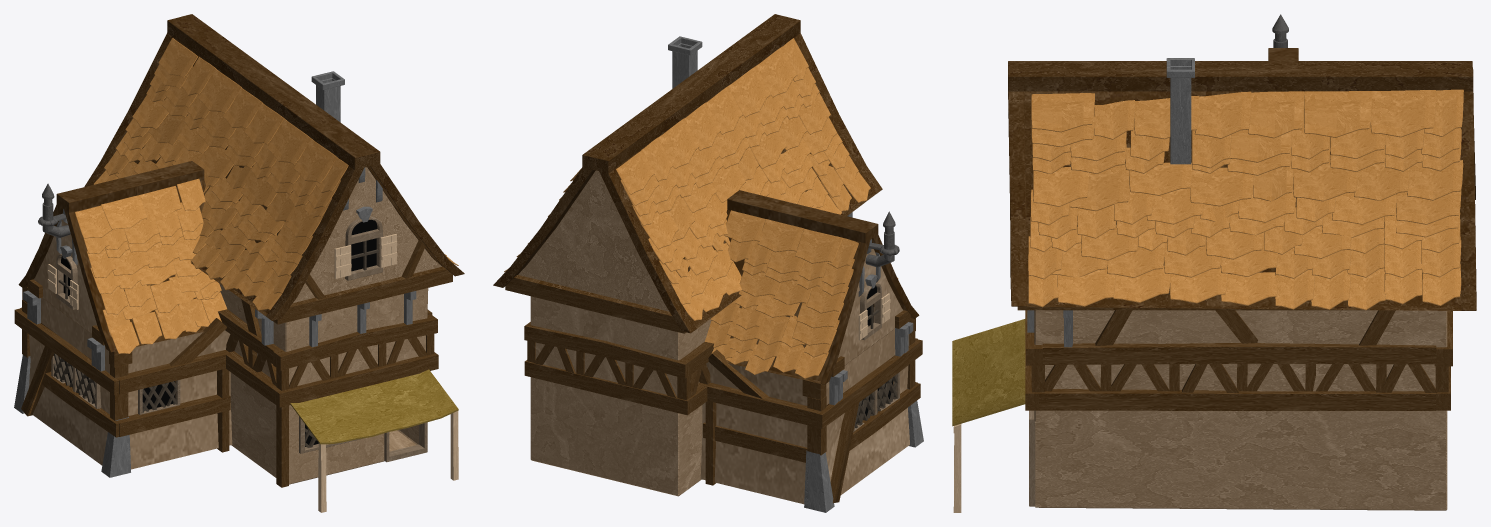
File: GrannysHouse.fbx
3 views of the same model, side by side, from view 1: azimuth 30°, elevation 25°; view 2: azimuth 150°, elevation 25°; view 3: azimuth 270°, elevation 25° (orthographic). The views are drawn at different scales.
Visible parts, largest first — view 1: GrannysHouse; view 2: GrannysHouse; view 3: GrannysHouse.
Part boxes in pixels (x1,y1,x2,y2): GrannysHouse: (14, 14, 464, 512); GrannysHouse: (493, 14, 923, 512); GrannysHouse: (952, 14, 1476, 512).
Size of the model in its own units: 1173 by 1205 by 1347.
